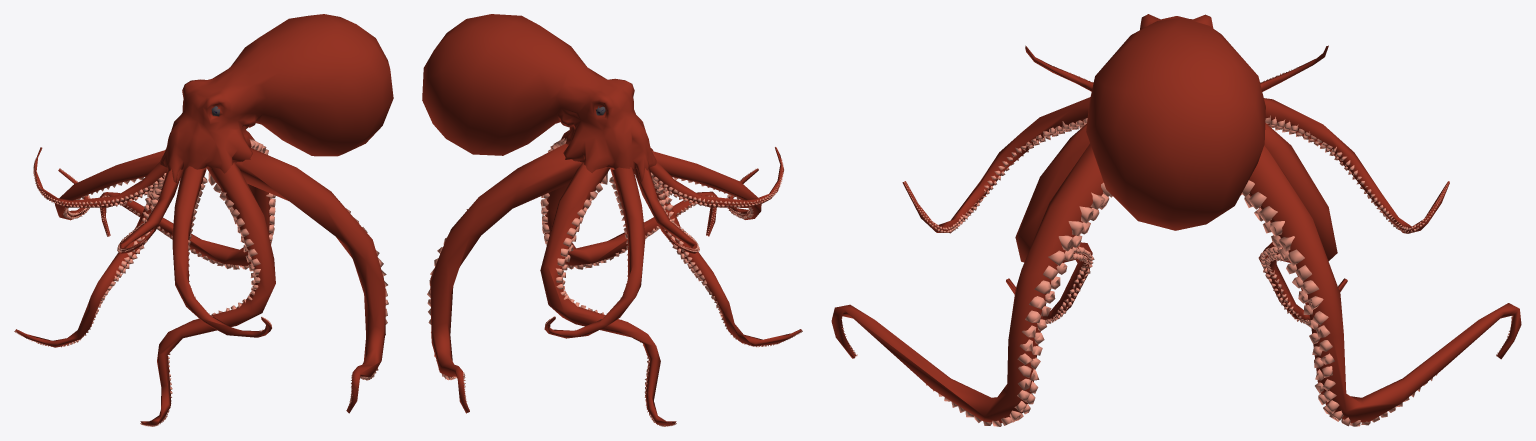
Rendered from octopus.glb.
3 views of the same model, side by side, from view 1: azimuth 30°, elevation 25°; view 2: azimuth 150°, elevation 25°; view 3: azimuth 270°, elevation 25° (orthographic). The views are drawn at different scales.
Parts seen in each view (by area): view 1: octopus; view 2: octopus; view 3: octopus.
Part boxes in pixels (box(x1,y1,x2,y2)): octopus: box(14, 14, 393, 426); octopus: box(422, 14, 802, 426); octopus: box(831, 14, 1521, 426).
Bounding box in the file's own units: 0.7596 × 0.7401 × 1.1.
